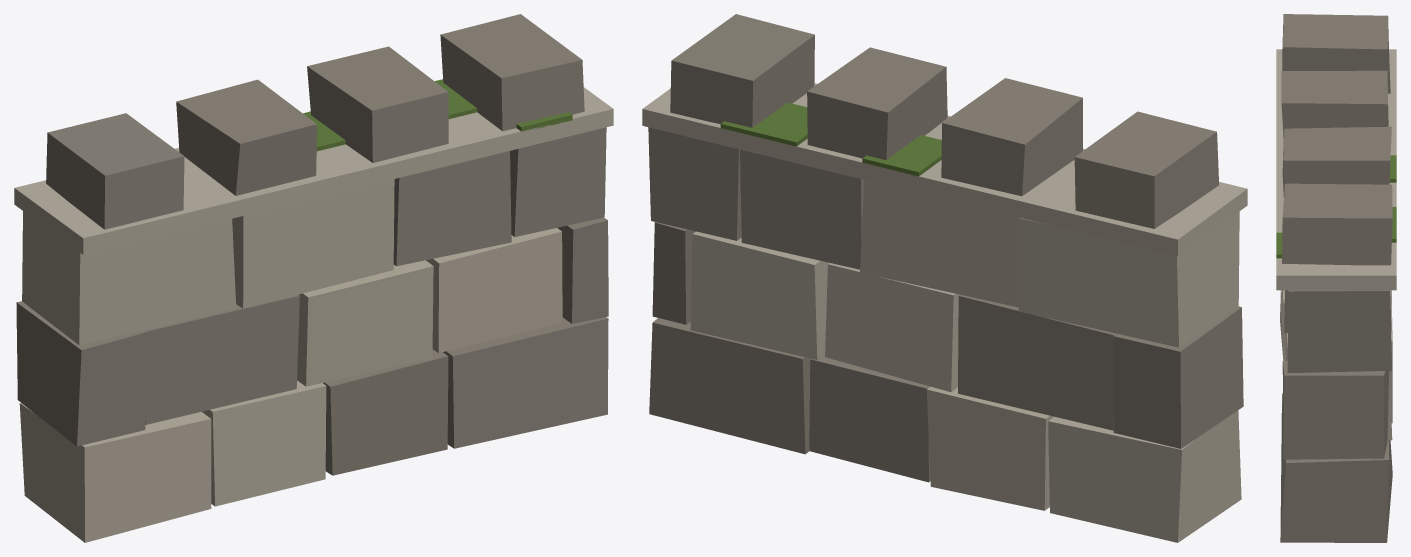
Rendered from ArenaMauer_Segment.fbx.
3 views of the same model, side by side, from view 1: azimuth 30°, elevation 25°; view 2: azimuth 150°, elevation 25°; view 3: azimuth 270°, elevation 25° (orthographic). The views are drawn at different scales.
Visible parts, largest first — view 1: ArenaMauer_Segment; view 2: ArenaMauer_Segment; view 3: ArenaMauer_Segment.
Boxes of the visible parts, x1=… form: ArenaMauer_Segment: x1=14, y1=14, x2=613, y2=542; ArenaMauer_Segment: x1=642, y1=14, x2=1247, y2=542; ArenaMauer_Segment: x1=1276, y1=14, x2=1396, y2=542.
Size of the model in its own units: 4.01 by 2.6 by 0.9.
